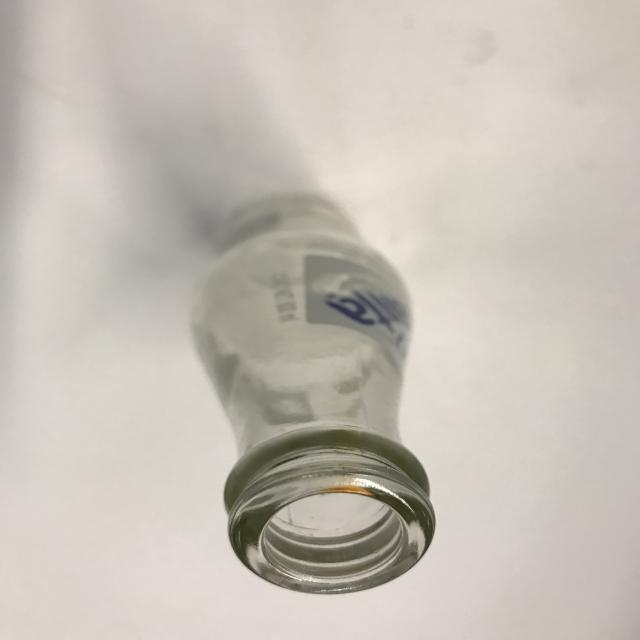glass: (186, 230, 444, 594)
